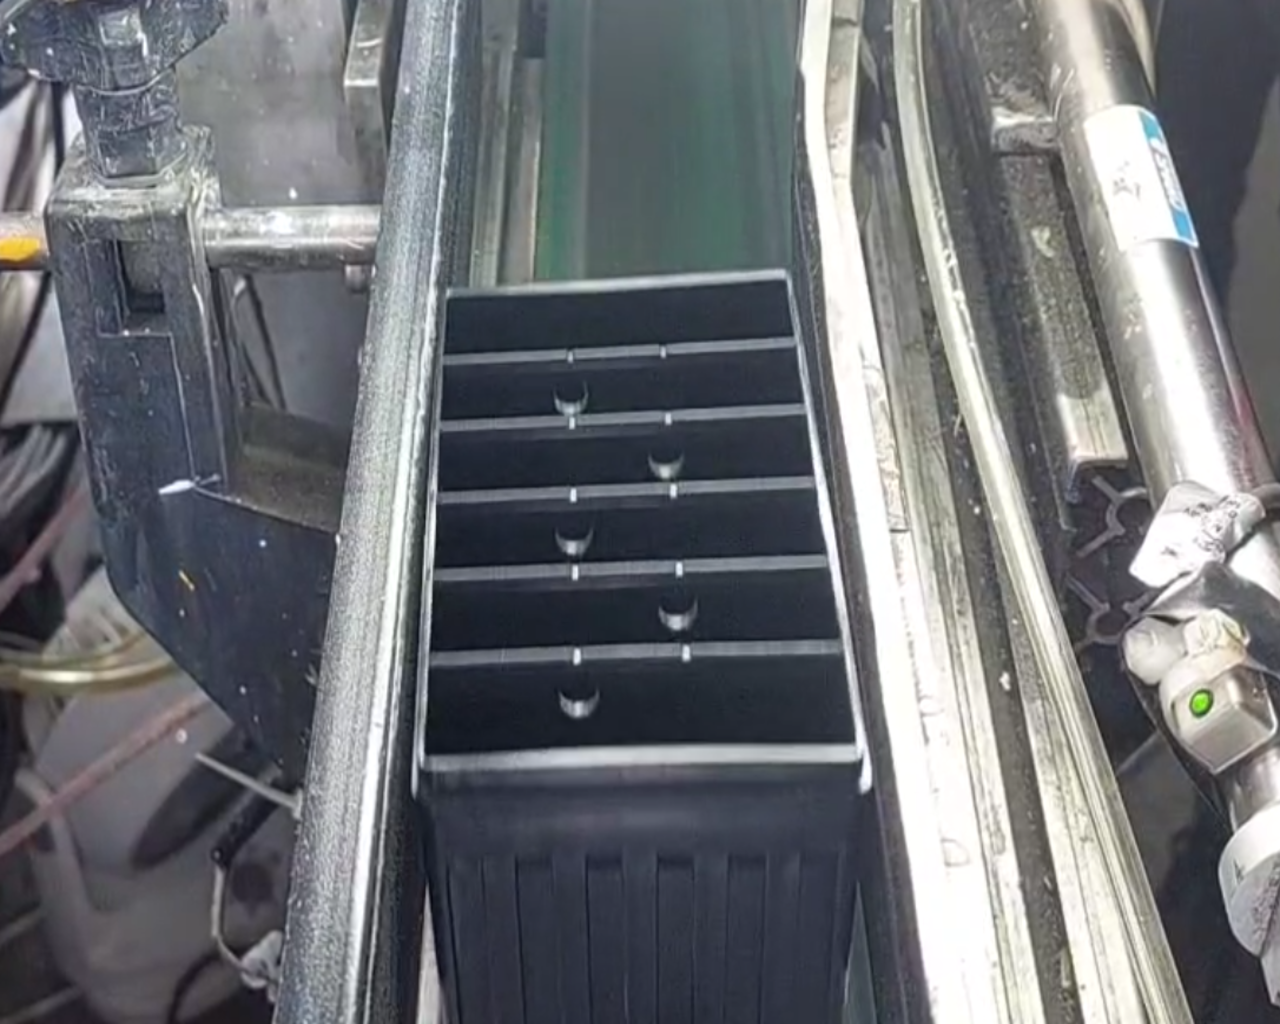box: (379, 253, 900, 818)
round: (535, 504, 610, 566), (541, 666, 616, 728), (639, 580, 713, 643), (535, 362, 598, 425), (633, 430, 695, 488)
